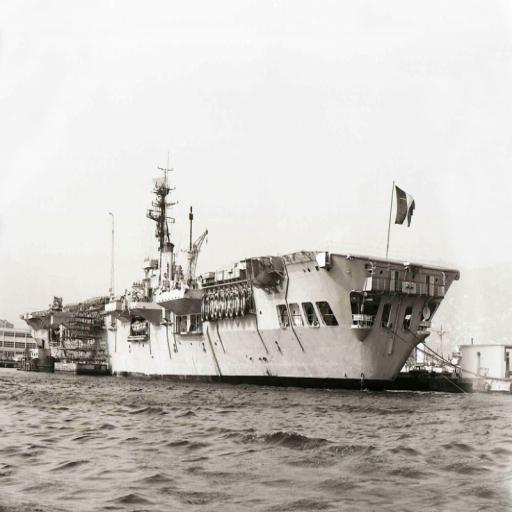Portanaves: (21, 130, 462, 394)
